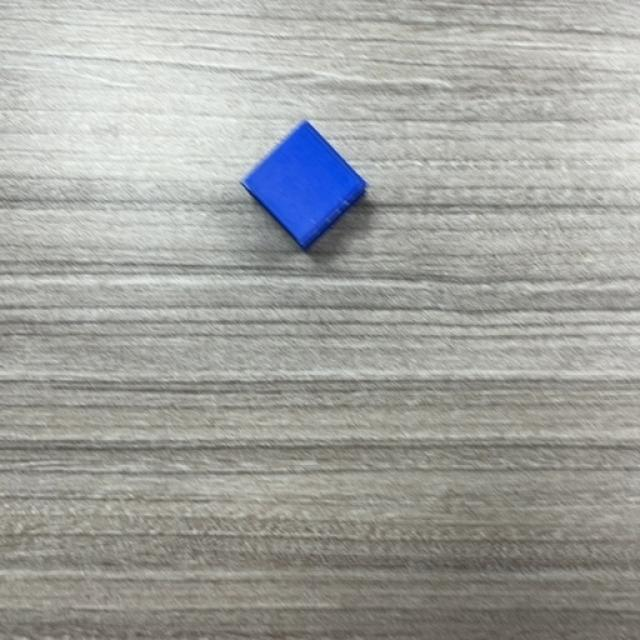Azul: (240, 121, 369, 252)
